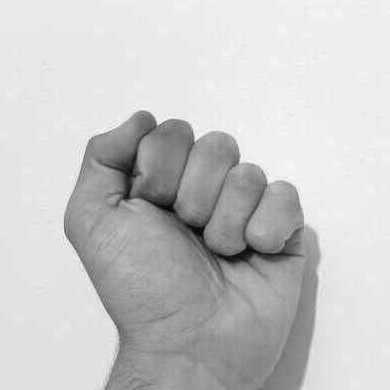A: (61, 108, 307, 390)
